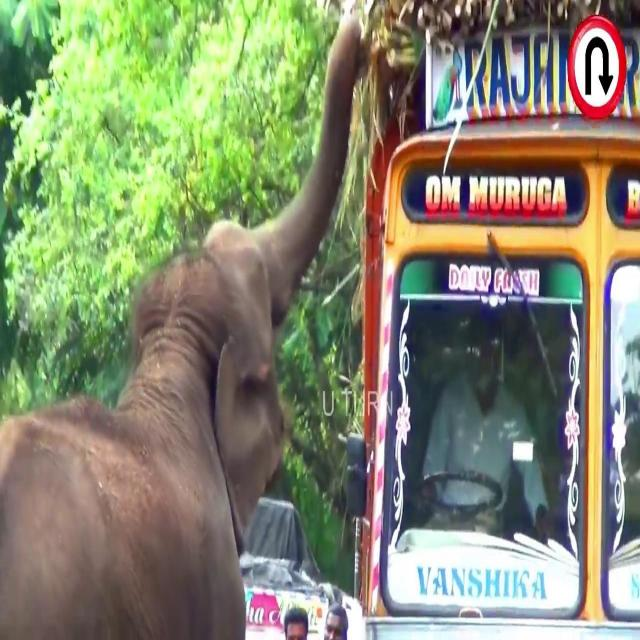Elephant: (1, 16, 366, 630)
